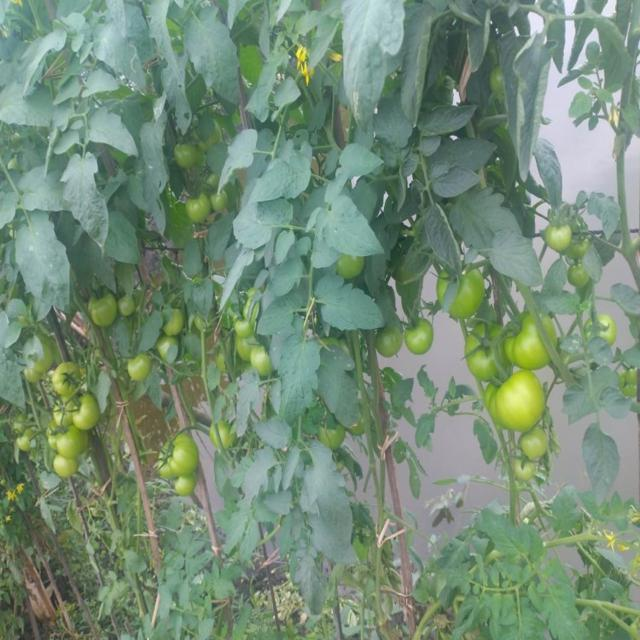tomato: (492, 373, 550, 427), (473, 321, 508, 376), (456, 270, 493, 316), (507, 317, 539, 366), (519, 414, 553, 460), (166, 434, 199, 473), (71, 393, 99, 436), (89, 288, 117, 329), (409, 320, 437, 352), (253, 341, 276, 379), (546, 225, 575, 255), (52, 361, 82, 390), (342, 253, 370, 284), (128, 354, 156, 385), (512, 448, 538, 481), (60, 428, 89, 456), (48, 455, 78, 481), (378, 330, 406, 357), (486, 71, 509, 102), (234, 327, 258, 356), (230, 307, 253, 335), (189, 196, 209, 228), (588, 316, 615, 339), (211, 193, 230, 221), (174, 138, 194, 163), (322, 426, 347, 446), (176, 475, 199, 495), (166, 311, 184, 336), (159, 454, 175, 480), (113, 293, 132, 314), (51, 397, 68, 420), (569, 264, 586, 285), (22, 435, 40, 453), (48, 430, 61, 451)
